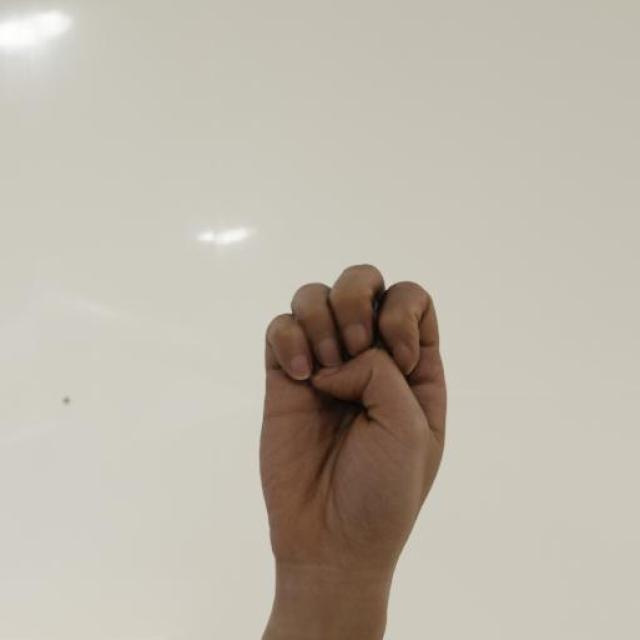E: (256, 264, 450, 545)
